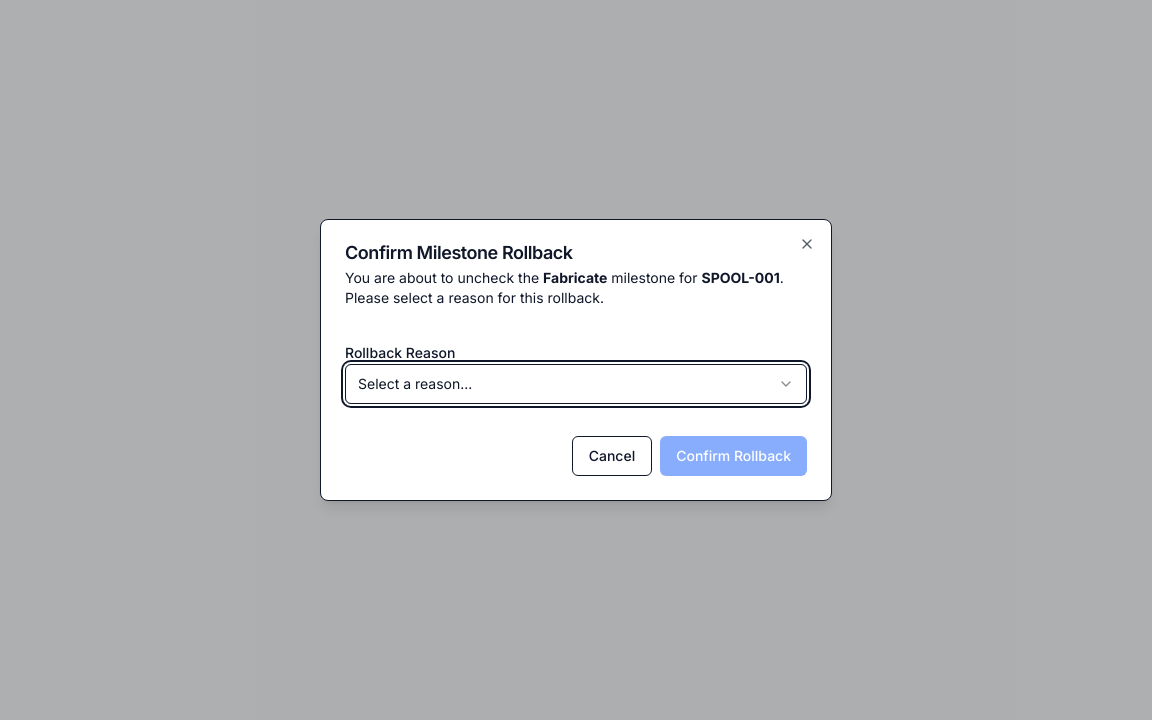
RollbackConfirmationModal › Button States › should enable confirm button when a preset reason (not "other") is selected
Click the dropdown at {"x": 415, "y": 384}, box [345, 364, 807, 404]
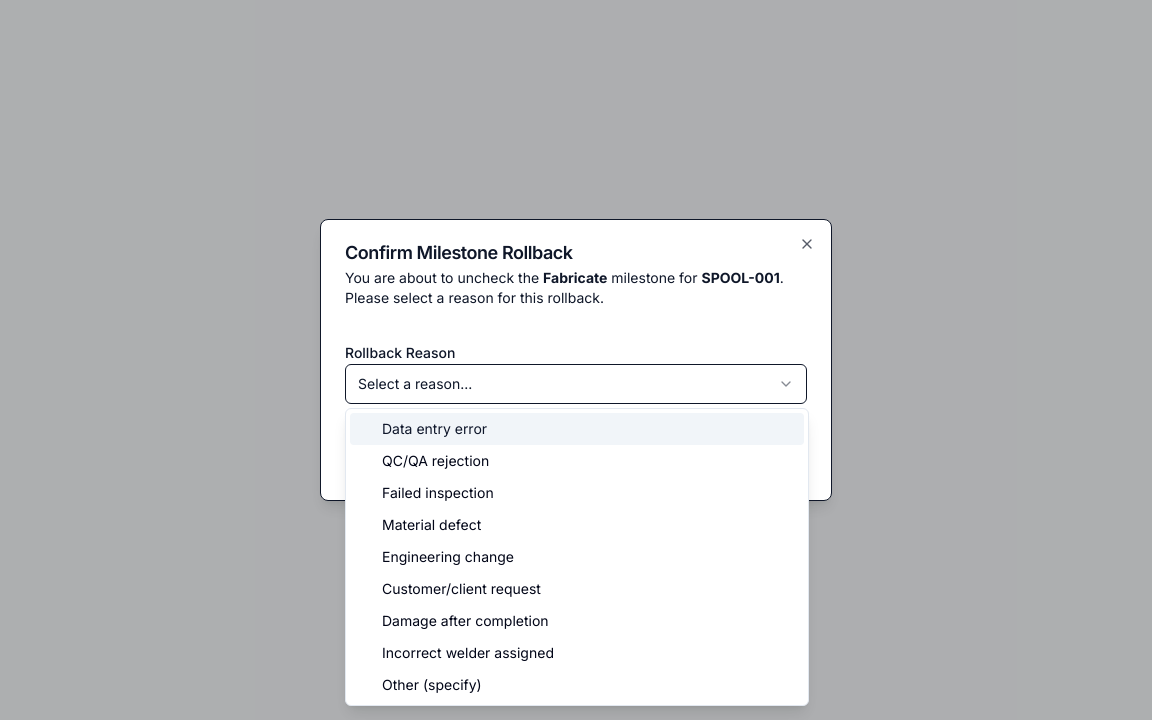
Click the option "Data entry error" at {"x": 435, "y": 428}, box [350, 413, 804, 445]
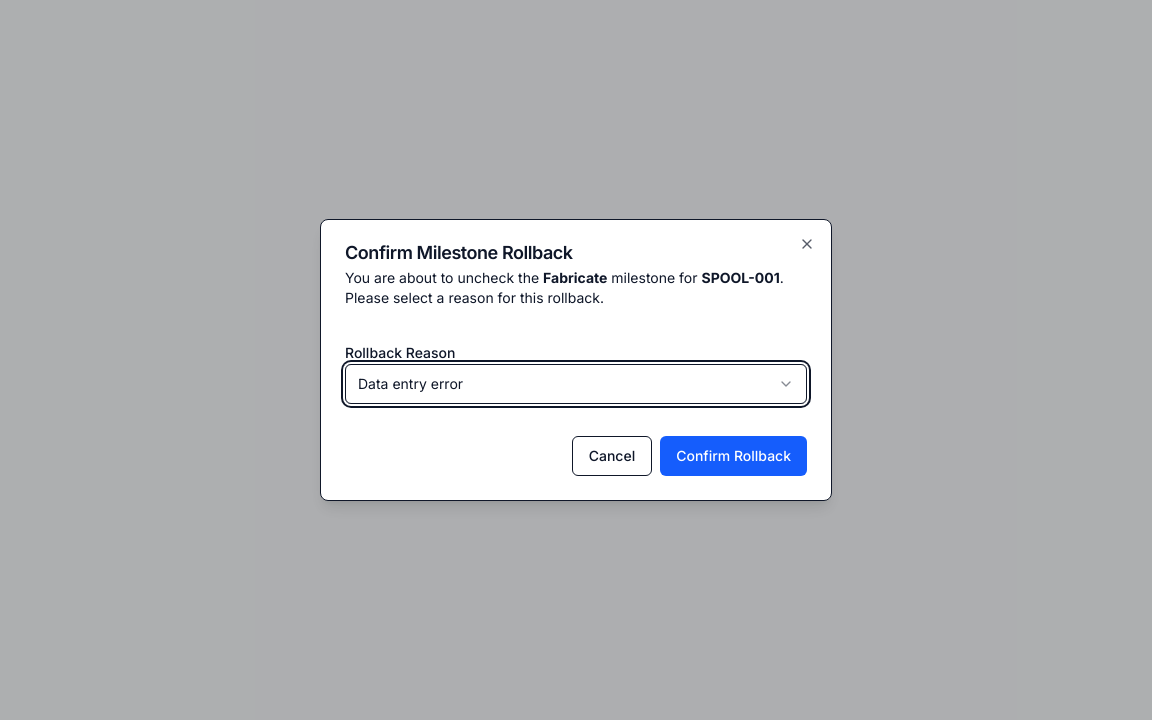
Now the button "Confirm Rollback" is enabled, box [660, 436, 807, 476]
